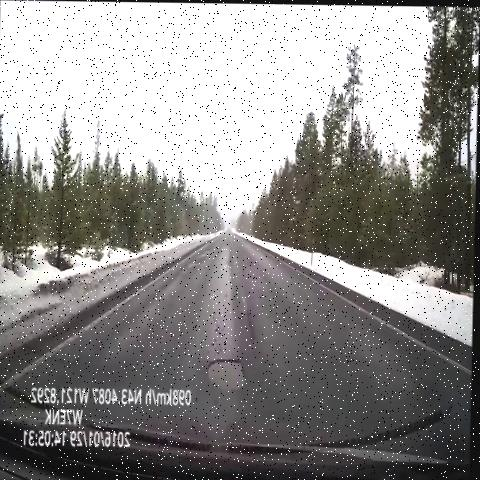pothole: (203, 344, 260, 407)
